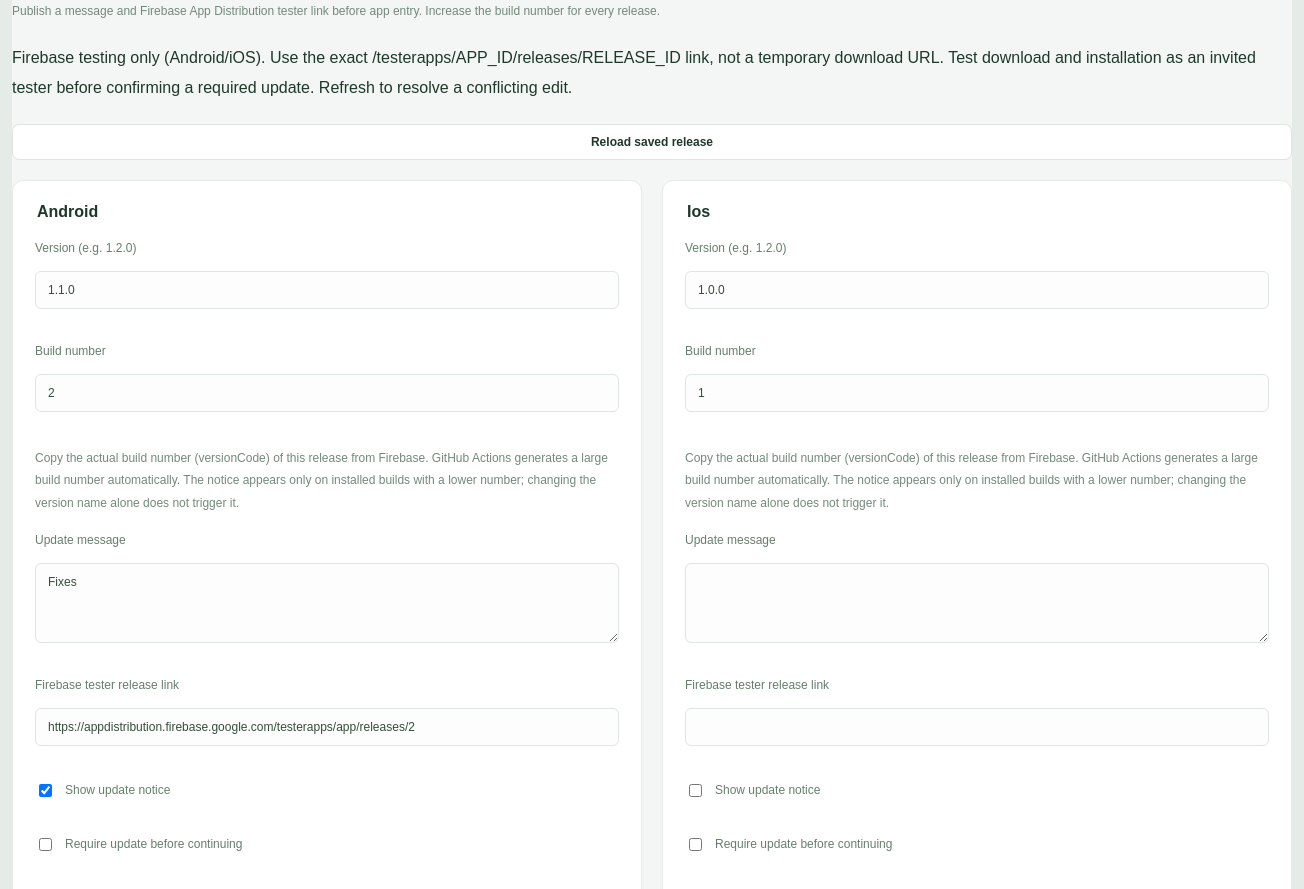
it: monitoring workflows › saves the message and update policy with the revision for conflict detection
This screenshot has width=1304, height=889.
Step 1. Replace the text in the 1st text box labelled "Update message" with "Please update" → [327, 603], box top-left (35, 563), bottom-right (619, 643)
Step 2. Click the 1st checkbox labelled "Require update before continuing" → [46, 844], box top-left (39, 838), bottom-right (52, 851)
(page scrolled)
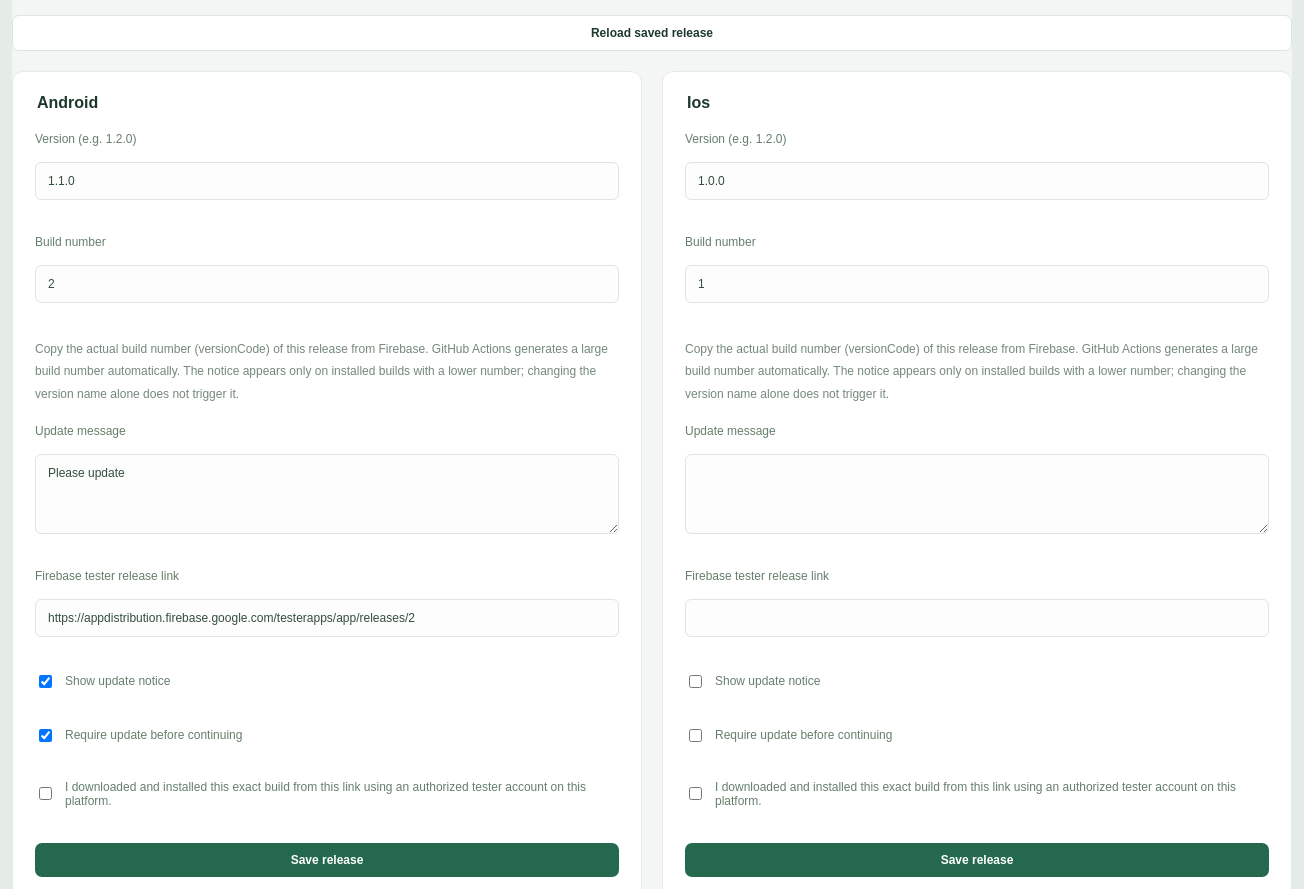
Step 3. Click the 1st checkbox labelled "I downloaded and installed this exact build" → [46, 794], box top-left (39, 788), bottom-right (52, 800)
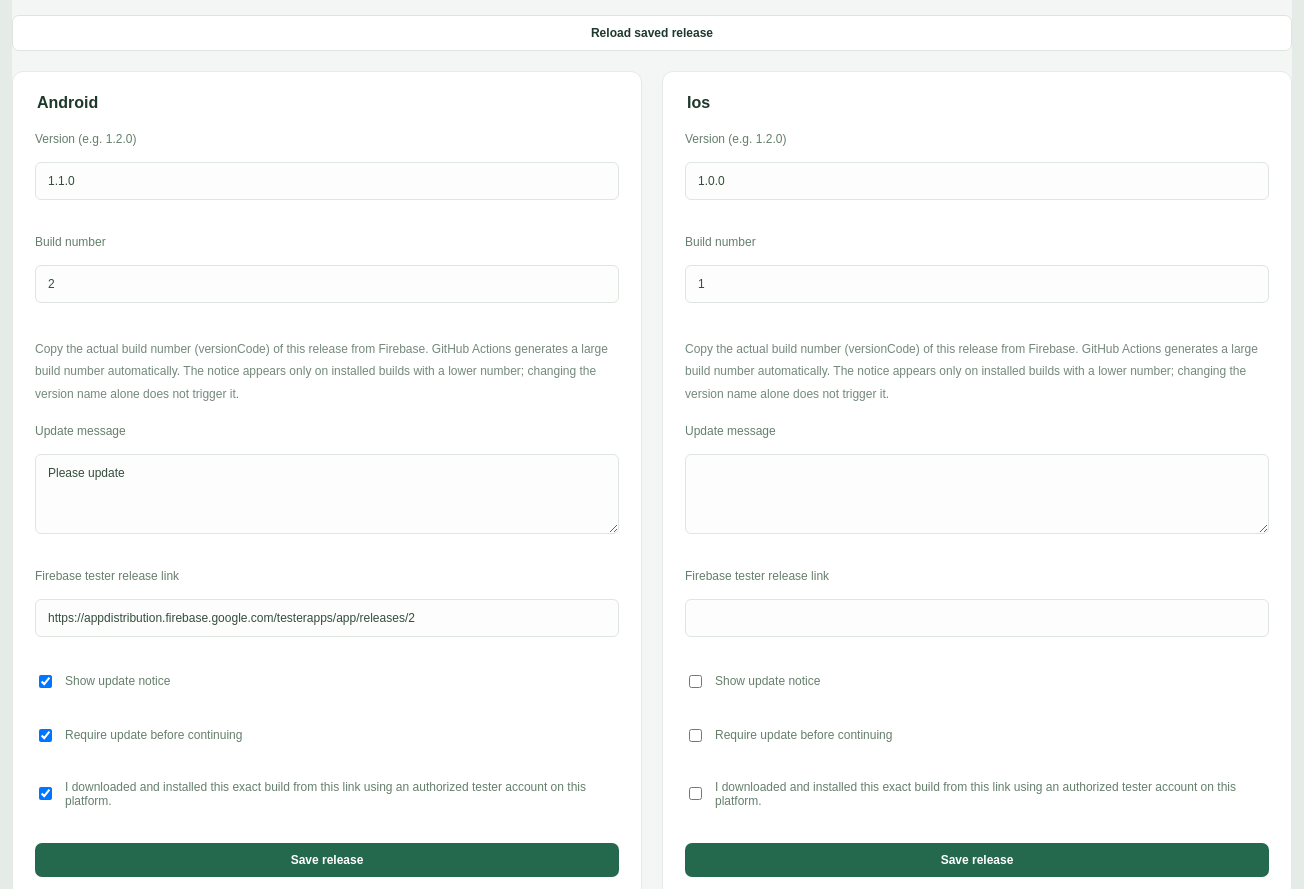
Step 4. Replace the text in the 1st number field labelled "Build number" with "3" → [327, 284], box top-left (35, 265), bottom-right (619, 303)
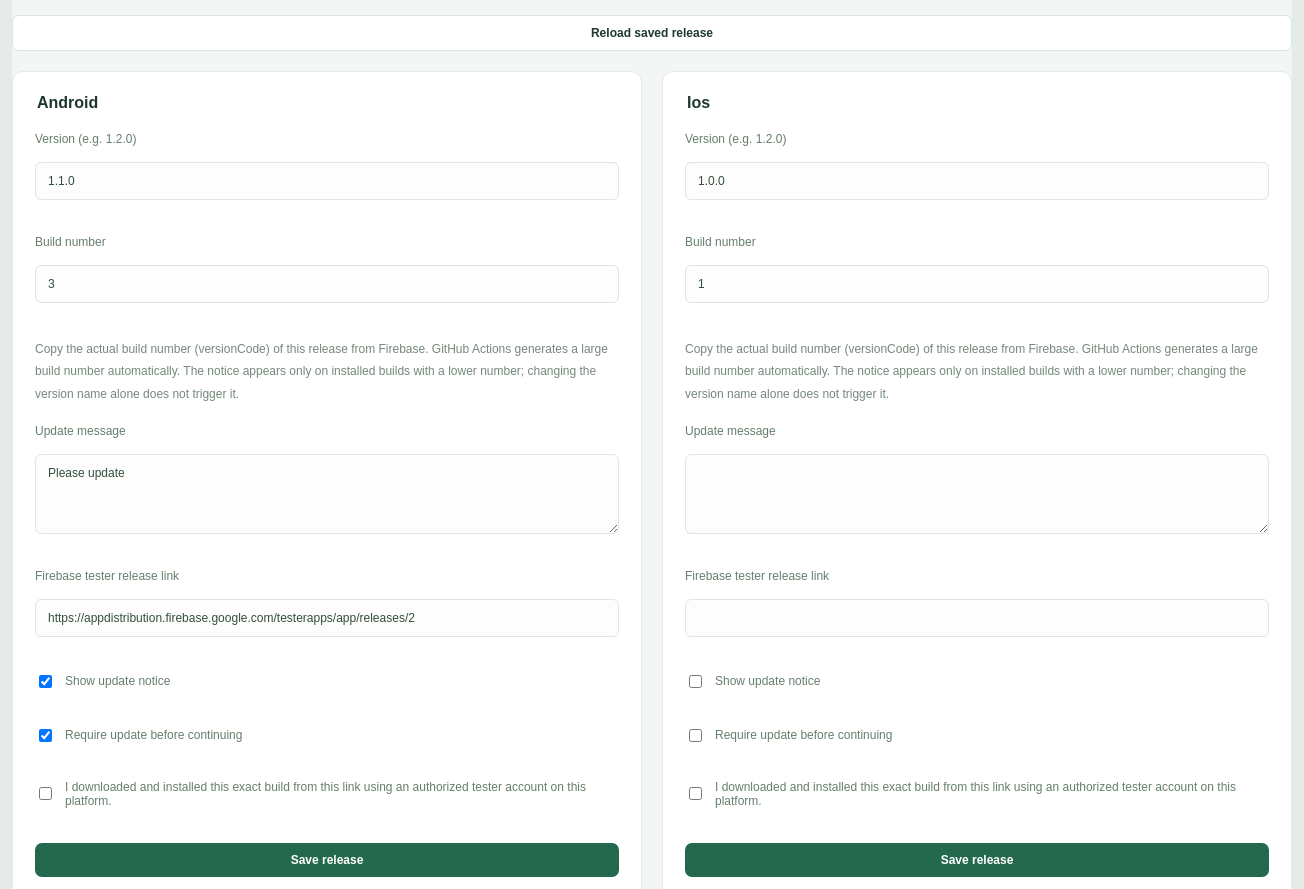
Check: the 1st checkbox labelled "I downloaded and installed this exact build" is not checked, box top-left (39, 788), bottom-right (52, 800)
Step 5. Replace the text in the 1st number field labelled "Build number" with "2" → [327, 284], box top-left (35, 265), bottom-right (619, 303)
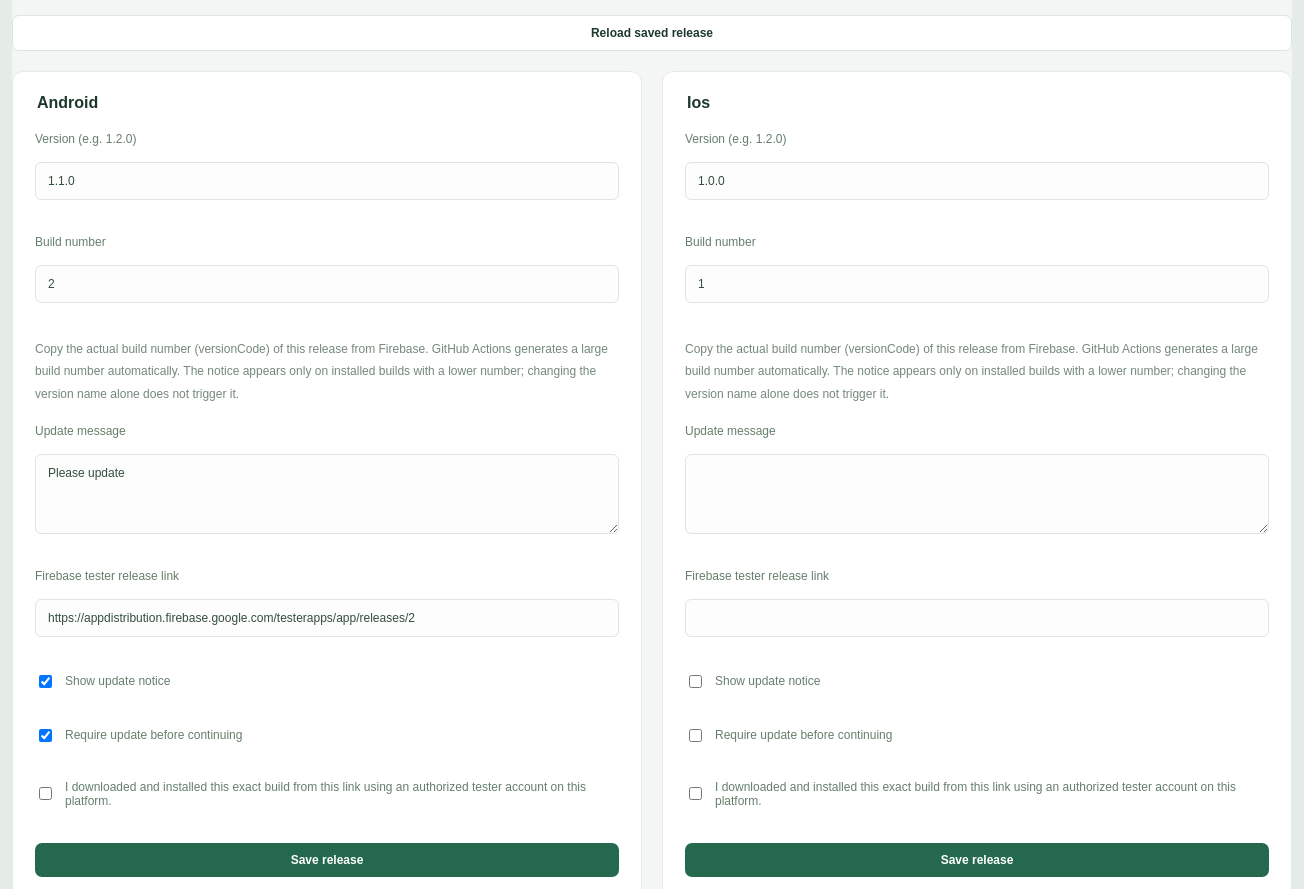
Step 6. Click the 1st checkbox labelled "I downloaded and installed this exact build" → [46, 794], box top-left (39, 788), bottom-right (52, 800)
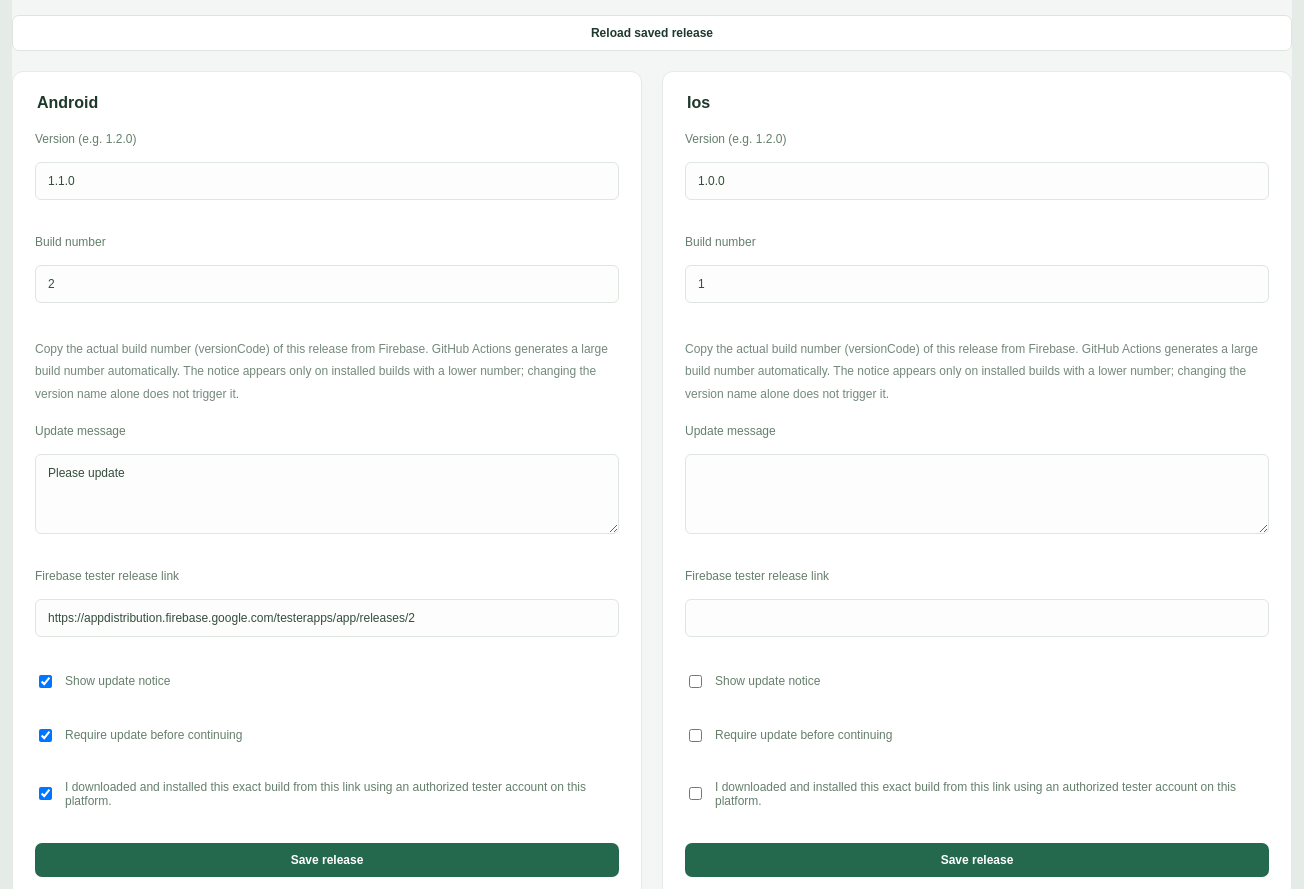
Step 7. Click the 1st button "Save release" → [327, 860], box top-left (35, 843), bottom-right (619, 877)
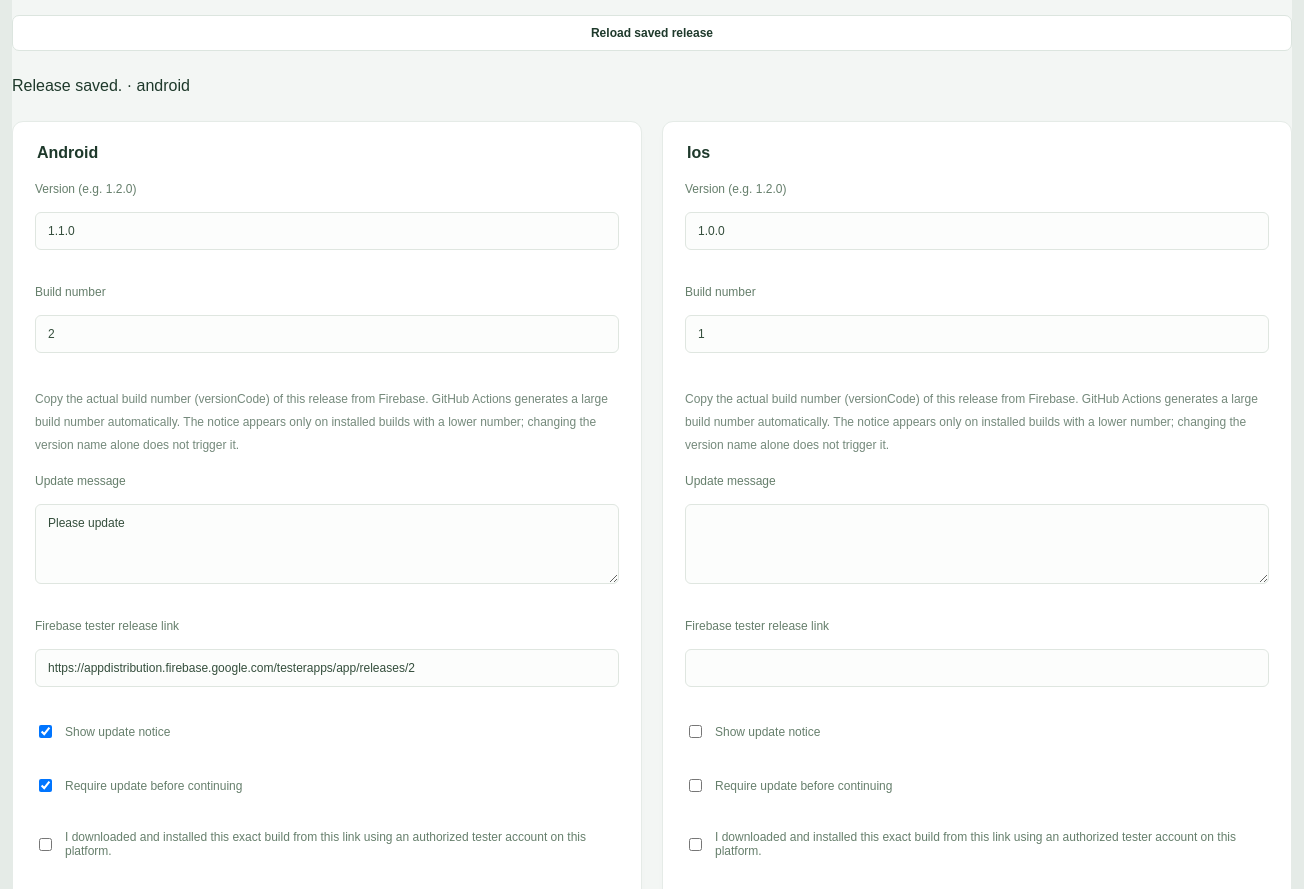
Check: the message shows "Release saved.", box top-left (12, 77), bottom-right (122, 94)
